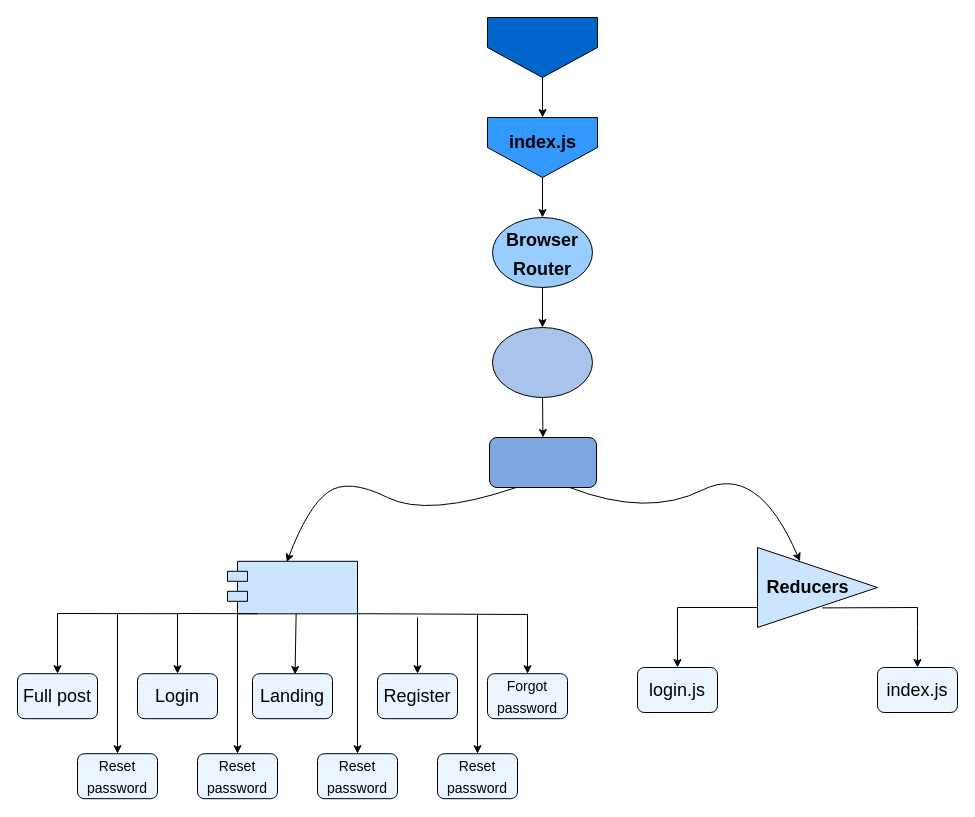
Image size: 975x817. Some labels were removed from this diagram. The shapes that lost their labels are listed below. From the top down, each one's box as (x1, y1, x2, y2) in pixels, then its label:
(486, 16, 598, 78): index.html
(492, 326, 592, 398): Provider
(488, 436, 596, 488): App
(226, 560, 358, 614): Components
